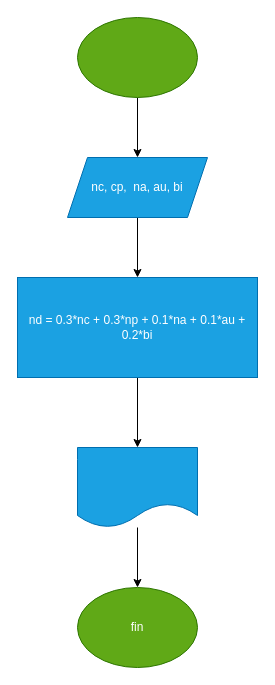
Some shapes in this 275 by 685 pixel diagram are drawn without their labels. The shapes that lost their labels are listed below. From the top down, each one's centre as x and y in pixels, then its label:
At [137,57]: "inicio".
At [137,487]: "nd".
